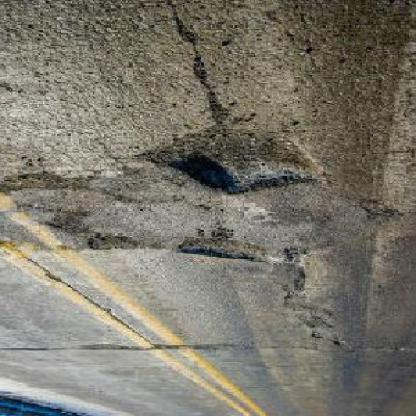pothole: (141, 125, 328, 198), (1, 170, 96, 199), (173, 239, 270, 265), (84, 236, 147, 255)
